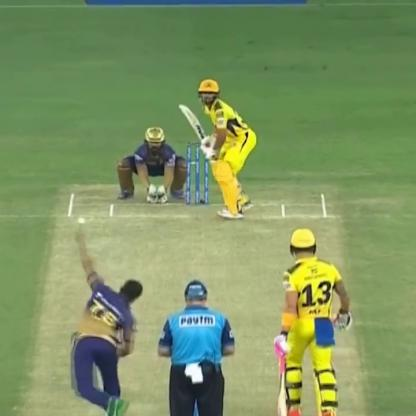ball: (72, 214, 87, 225)
bat: (175, 98, 216, 162)
pitch: (21, 180, 363, 416)
